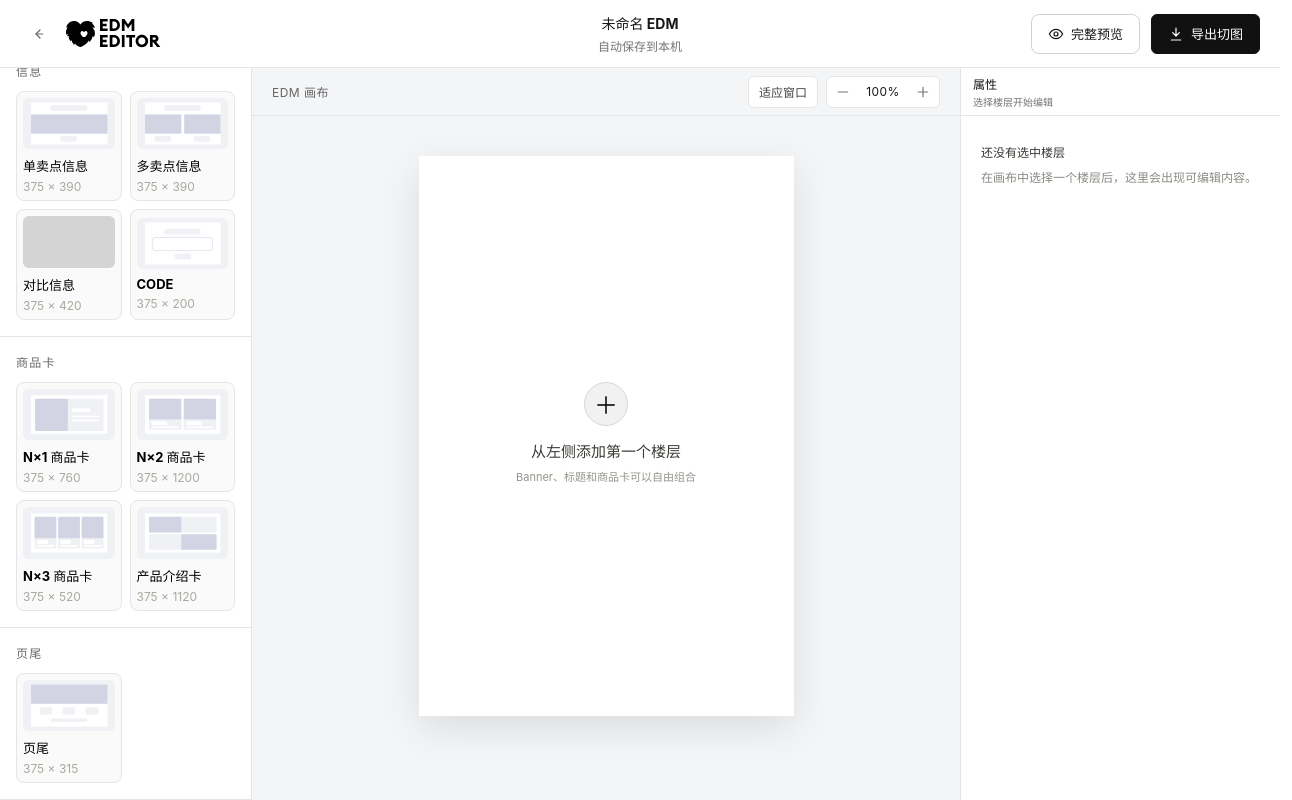
Scenario: N×3 商品卡固定三个商品坑位且不显示价格字段
(page scrolled)
Click the button with aria-label "添加 N×3 商品卡". click: (69, 556)
box: x1=16 y1=500 x2=122 y2=611
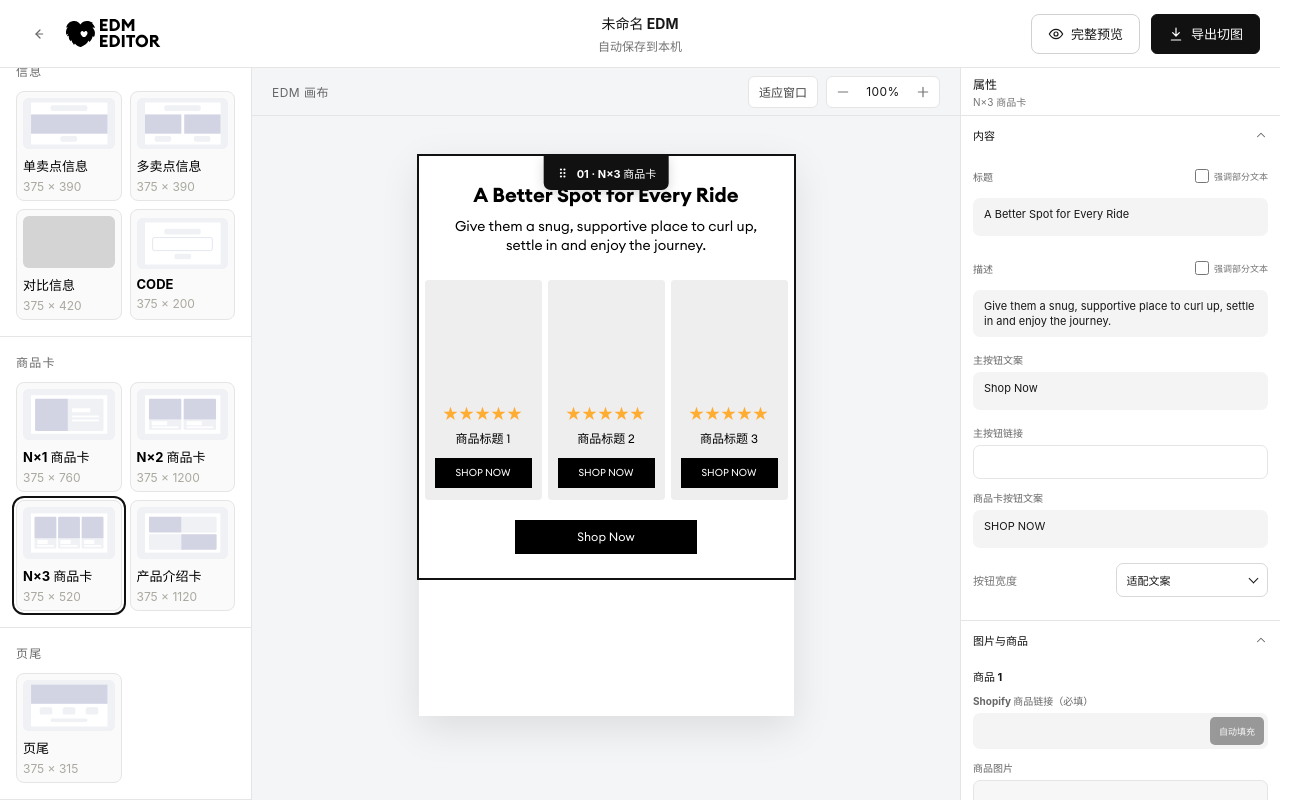
expect the number of fields named "Shopify 链接" is 3: met
